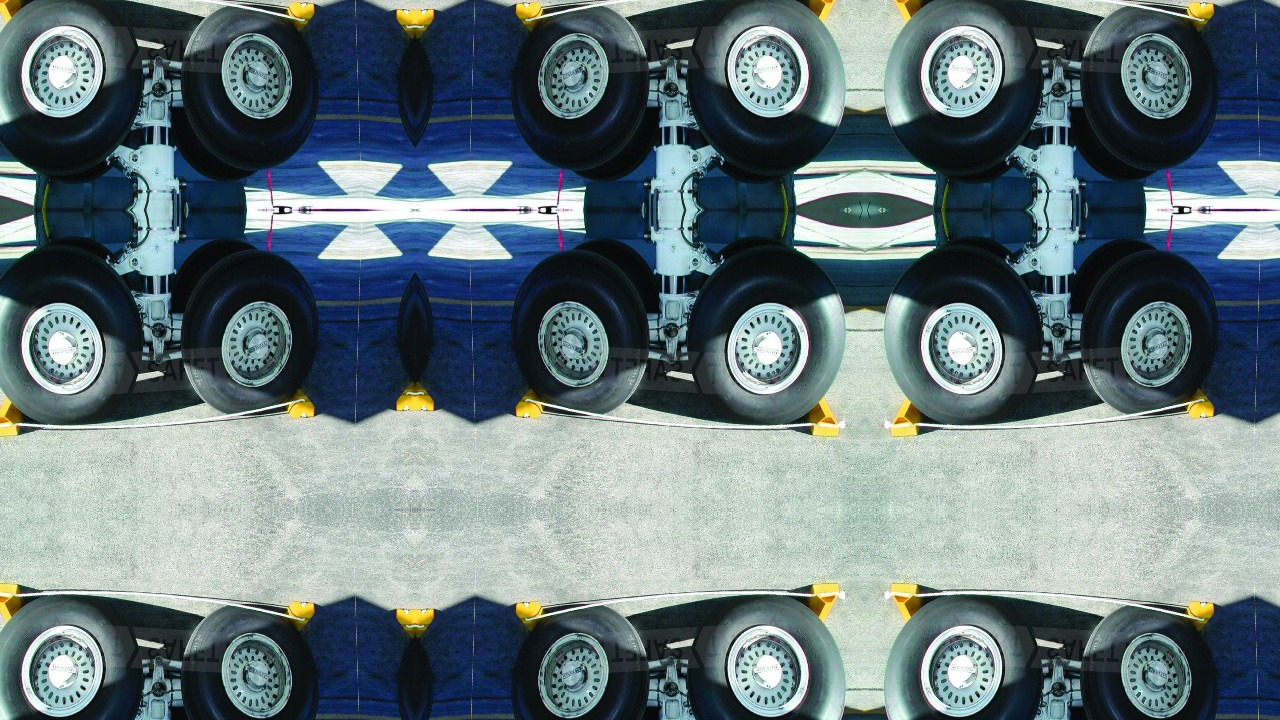chock: (801, 382, 844, 438), (886, 382, 929, 438), (801, 582, 844, 638), (886, 582, 929, 638), (279, 374, 321, 421), (509, 374, 551, 421), (1179, 374, 1221, 421), (279, 599, 321, 646), (509, 599, 551, 646), (1179, 599, 1221, 646), (279, 0, 321, 46), (509, 0, 551, 46), (1179, 0, 1221, 46), (801, 0, 844, 38), (886, 0, 929, 38), (0, 382, 29, 438), (0, 582, 29, 638), (390, 7, 415, 53), (415, 7, 440, 53), (390, 367, 415, 413), (415, 367, 440, 413), (390, 607, 415, 653), (415, 607, 440, 653), (0, 0, 29, 38)
wheel: (680, 232, 856, 427), (874, 232, 1050, 427), (680, 0, 856, 188), (874, 0, 1050, 188), (0, 232, 150, 427), (168, 5, 332, 180), (498, 5, 662, 180), (1068, 5, 1232, 180), (168, 240, 332, 415), (498, 240, 662, 415), (1068, 240, 1232, 415), (0, 0, 150, 188), (680, 593, 856, 720), (874, 593, 1050, 720), (0, 593, 150, 720), (168, 605, 332, 720), (498, 605, 662, 720), (1068, 605, 1232, 720), (165, 104, 263, 187), (567, 104, 665, 187), (1065, 104, 1163, 187), (165, 233, 263, 316), (567, 233, 665, 316), (1065, 233, 1163, 316), (383, 19, 415, 187), (415, 19, 447, 187), (383, 233, 415, 401), (415, 233, 447, 401), (383, 619, 415, 720), (415, 619, 447, 720), (42, 155, 118, 190), (712, 155, 788, 190), (942, 155, 1018, 190), (42, 230, 118, 265), (712, 230, 788, 265), (942, 230, 1018, 265), (165, 704, 263, 720), (567, 704, 665, 720), (1065, 704, 1163, 720)
